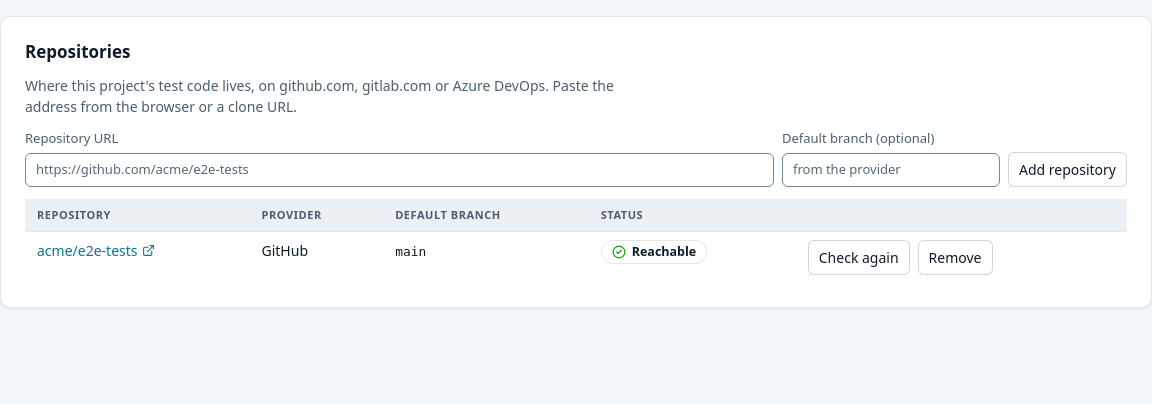
Test: removing asks first, then deletes
Check: the link "acme/e2e-tests" is shown, box top-left (37, 240), bottom-right (154, 261)
Click the button with aria-label "remove acme/e2e-tests" at coordinates (955, 257), box top-left (918, 240), bottom-right (992, 275)
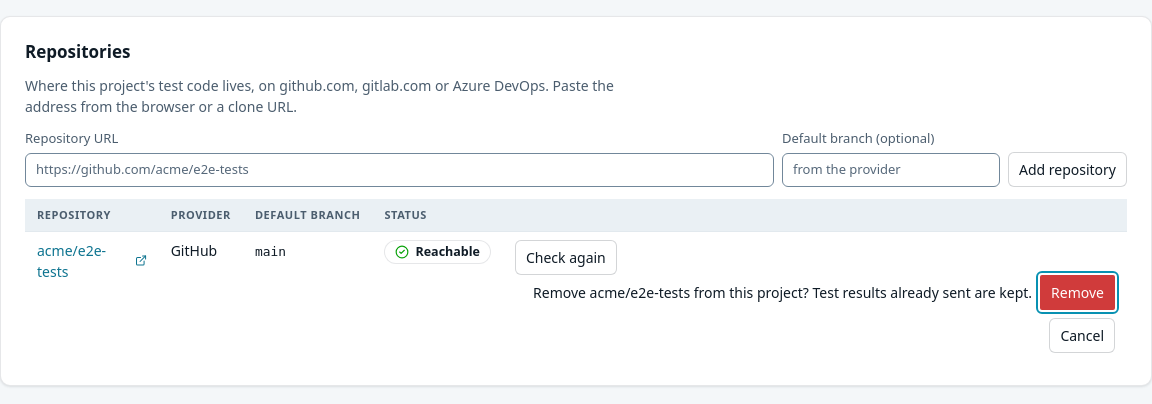
Click the button "Remove" at coordinates (1078, 292), box top-left (1040, 275), bottom-right (1115, 310)
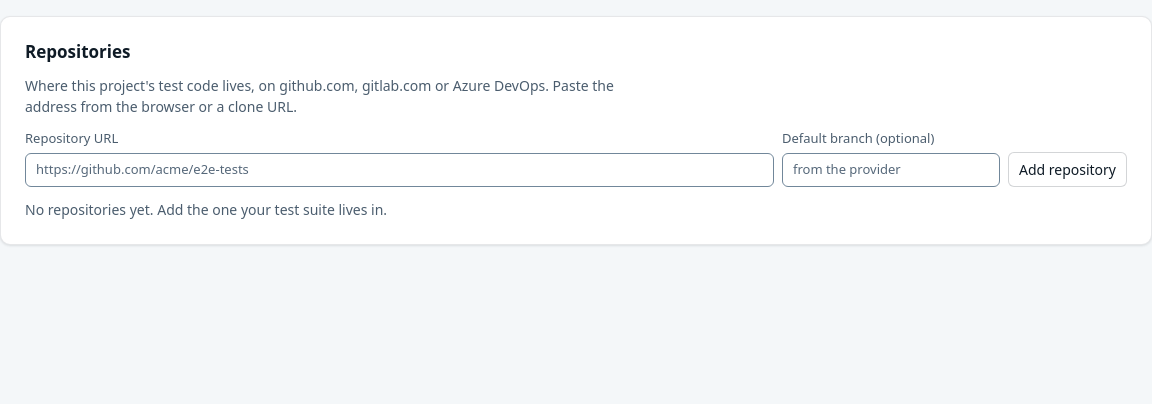
Check: the text "No repositories yet. Add the one your test suite lives in." is shown, box top-left (25, 200), bottom-right (387, 219)
